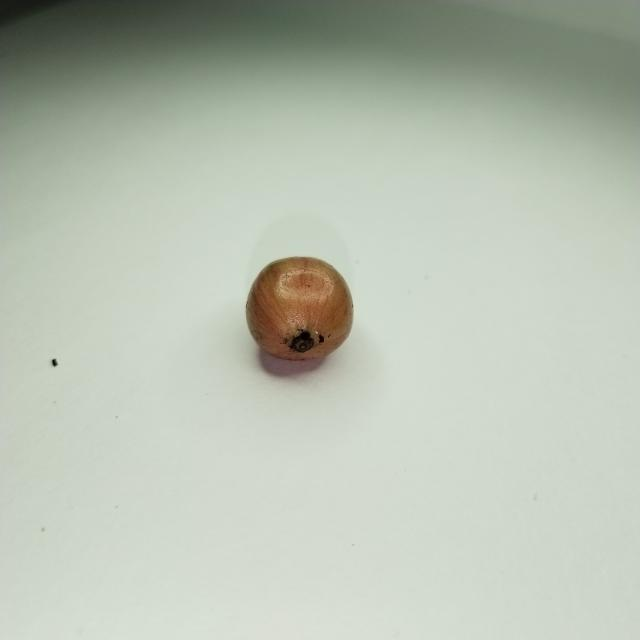Infectado: (247, 257, 352, 360)
